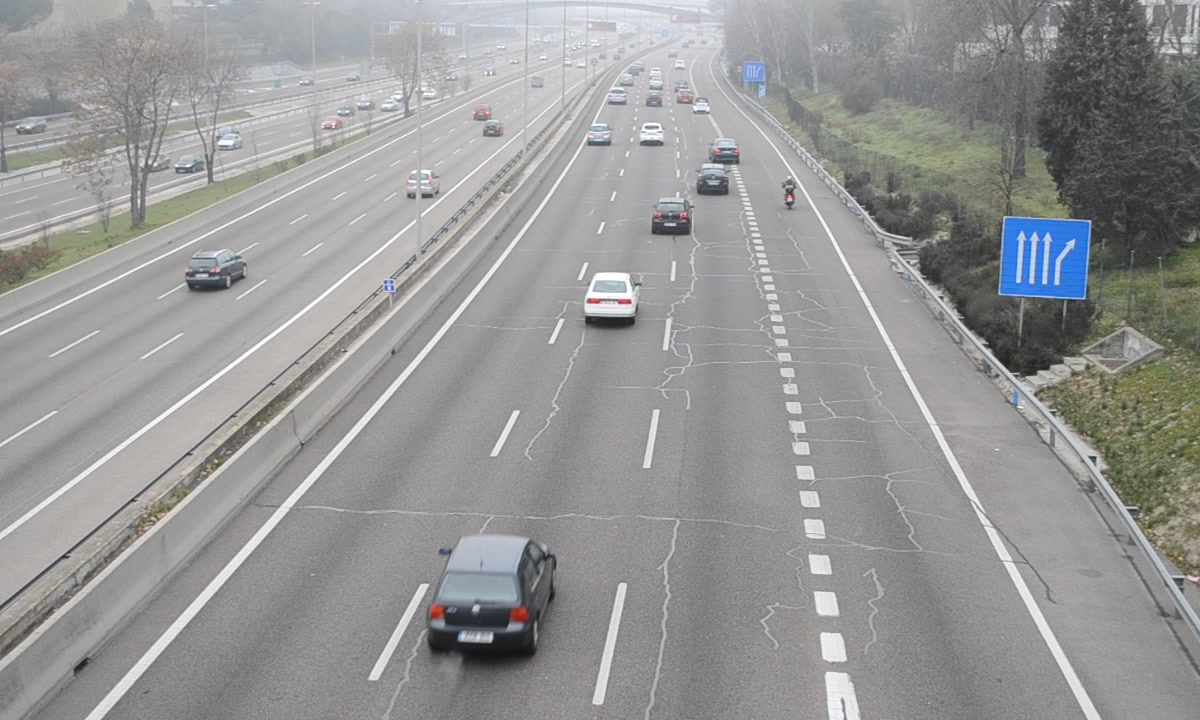car: (429, 534, 557, 651), (584, 271, 640, 318), (652, 197, 693, 235), (697, 163, 730, 195), (710, 138, 743, 162), (639, 121, 666, 145), (586, 123, 612, 145)
motorcycle: (782, 176, 799, 210)
